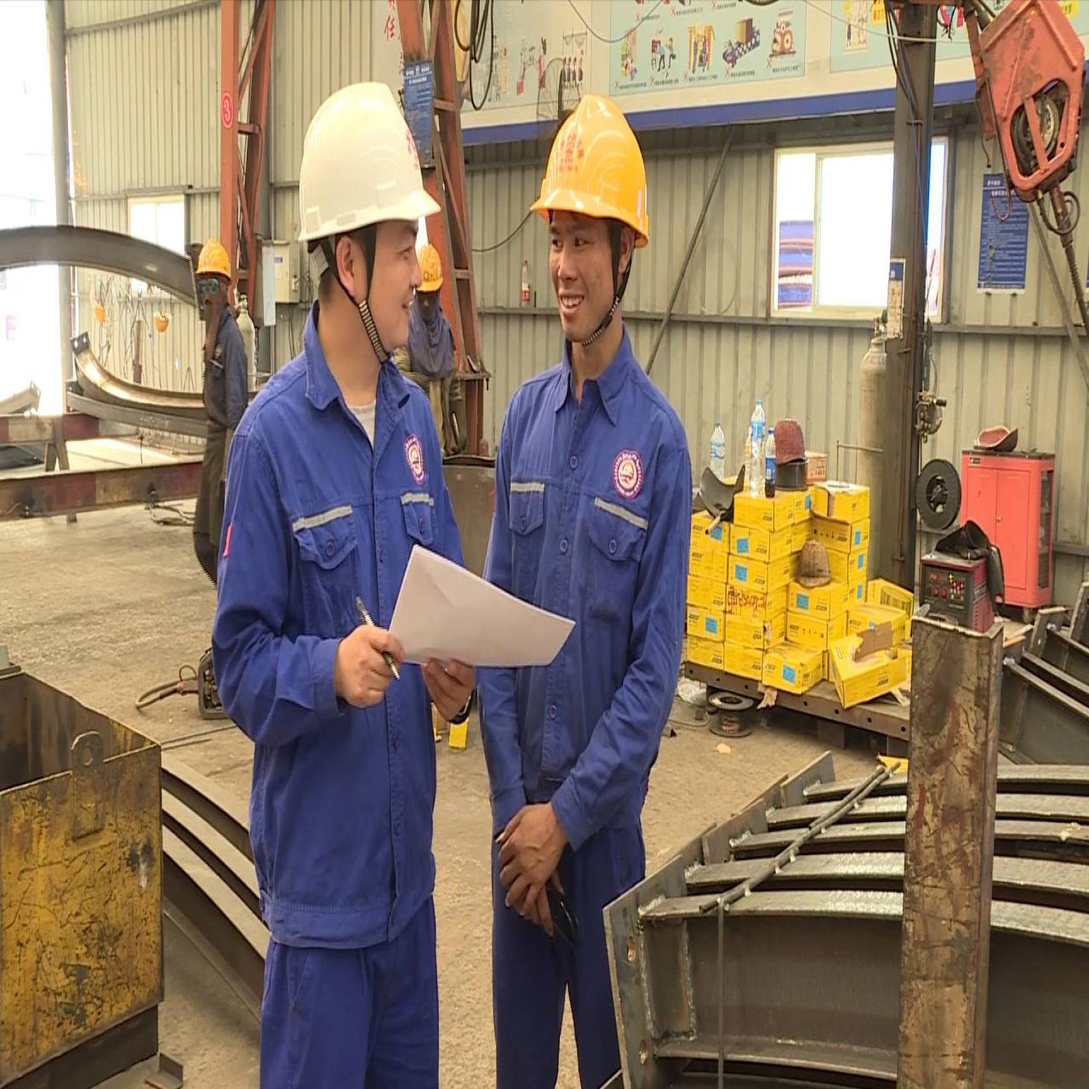NO_Safety_Vest: (238, 369, 444, 929), (497, 361, 681, 817), (198, 313, 247, 423), (408, 307, 452, 373)
Person: (205, 59, 475, 1089), (469, 81, 711, 1089), (184, 226, 256, 577), (404, 247, 478, 477)
